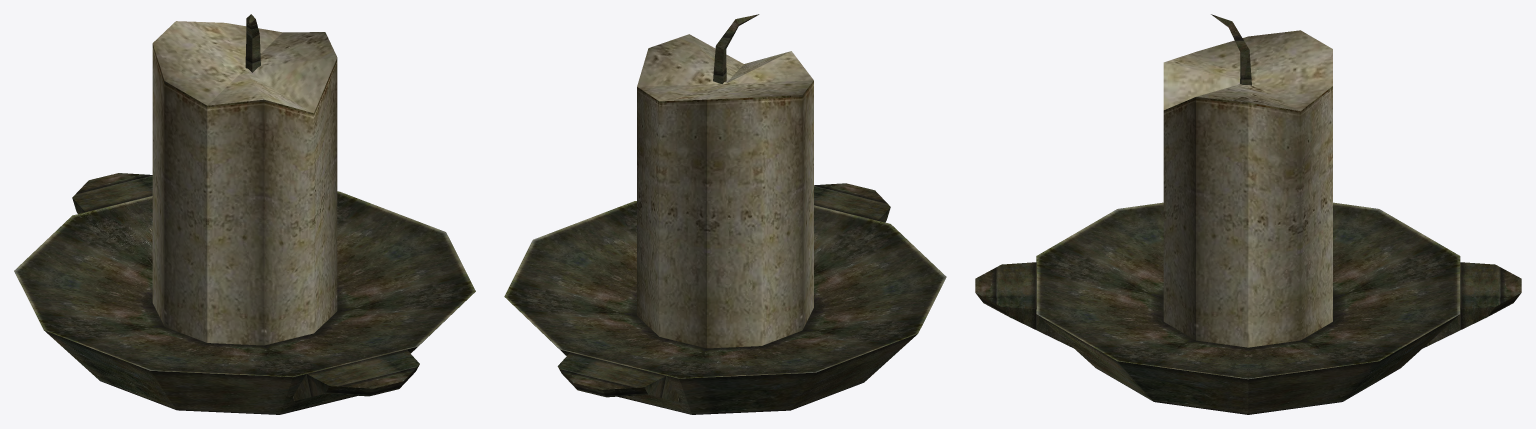
Rendered from NW_CITY_CANDLE_01.glb.
3 views of the same model, side by side, from view 1: azimuth 30°, elevation 25°; view 2: azimuth 150°, elevation 25°; view 3: azimuth 270°, elevation 25° (orthographic). The views are drawn at different scales.
Parts seen in each view (by area): view 1: NW_CITY_CANDLE_01; view 2: NW_CITY_CANDLE_01; view 3: NW_CITY_CANDLE_01.
Boxes of the visible parts, <box> form: NW_CITY_CANDLE_01: <box>14,14,475,414</box>; NW_CITY_CANDLE_01: <box>504,14,946,414</box>; NW_CITY_CANDLE_01: <box>975,14,1521,414</box>.
Bounding box in the file's own units: 0.4 × 0.3222 × 0.4904.
Materials: 2 (2 with a texture image).
